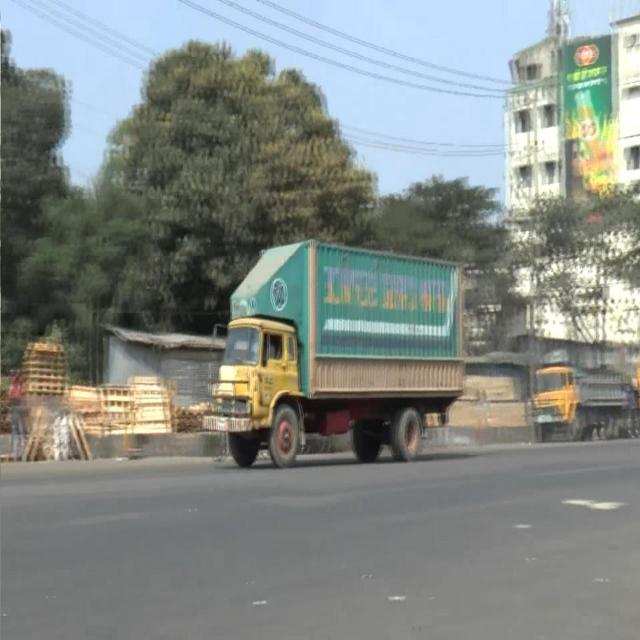truck: (209, 223, 473, 487), (527, 338, 633, 451)
